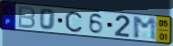0: (38, 8, 56, 32)
2: (114, 14, 133, 39)
6: (88, 13, 105, 36)
B: (17, 5, 37, 30)
C: (64, 11, 83, 34)
M: (132, 16, 159, 42)
